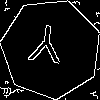Y: (26, 23, 65, 73)
